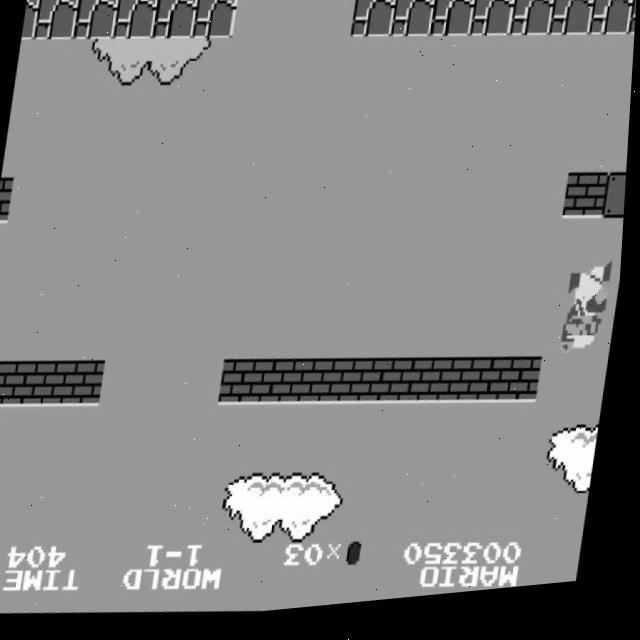1- brick_block: (460, 364, 508, 416), (564, 181, 611, 233), (381, 363, 428, 415), (302, 362, 349, 414), (222, 361, 269, 413), (64, 359, 111, 411), (500, 365, 547, 416), (421, 364, 468, 415), (341, 363, 388, 414), (262, 362, 309, 413), (24, 359, 71, 410), (0, 358, 31, 410), (0, 176, 16, 224)
17- undestructible_block: (589, 0, 636, 50), (549, 0, 596, 50), (509, 0, 556, 49), (470, 0, 517, 49), (430, 0, 477, 48), (390, 0, 437, 48), (351, 0, 398, 47), (192, 0, 239, 45), (152, 0, 199, 45), (112, 0, 159, 44), (73, 0, 120, 44), (33, 0, 80, 43), (21, 0, 40, 40), (628, 1, 638, 49), (595, 0, 639, 4), (555, 0, 599, 4), (515, 0, 559, 3), (476, 0, 520, 3), (436, 0, 480, 2), (396, 0, 440, 2), (357, 0, 401, 1)
3- empty_block: (604, 183, 629, 232)
4- fire_mario: (563, 270, 619, 371)
